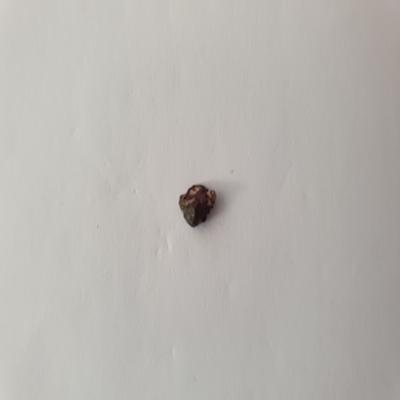plastic: (174, 180, 225, 232)
